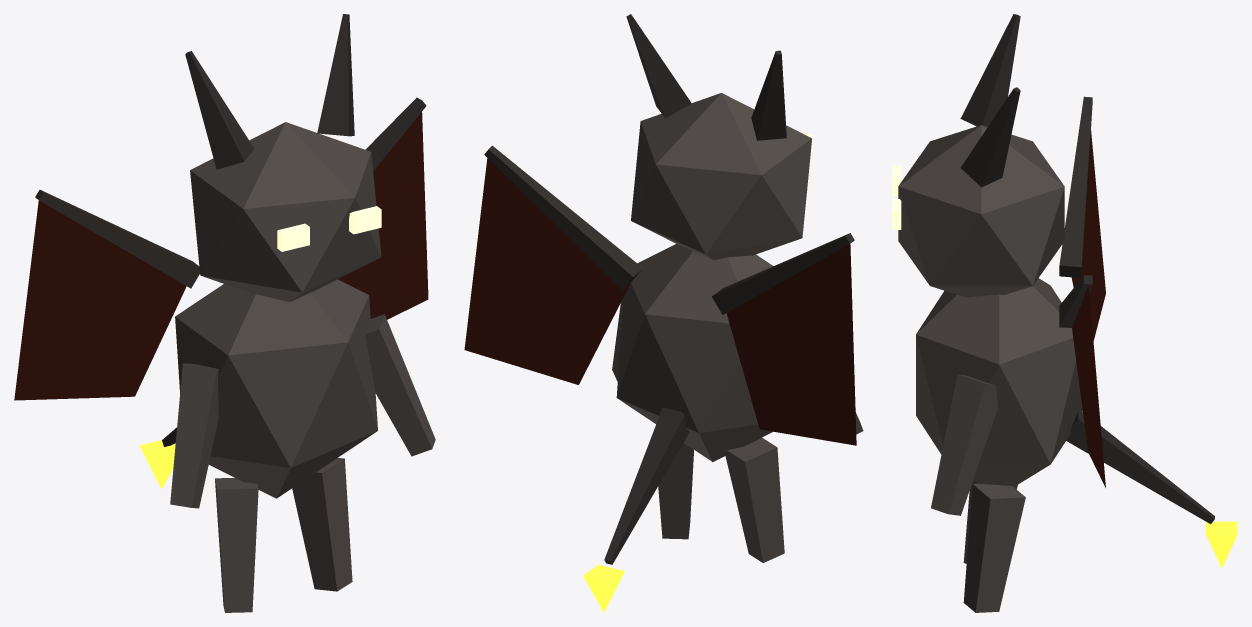
The model's file is Mascote_DiabreteCinza.fbx.
3 renders of one model, left to right at view 1: azimuth 30°, elevation 25°; view 2: azimuth 150°, elevation 25°; view 3: azimuth 270°, elevation 25°, orthographic. The views are drawn at different scales.
Parts seen in each view (by area): view 1: Body, WingR, WingL; view 2: Body, WingL, WingR; view 3: Body, WingR, WingL.
Boxes of the visible parts, x1,y1,x2,y2 form: Body: (139,14,435,612); WingR: (14,190,199,400); WingL: (338,97,428,319); Body: (583,14,863,612); WingL: (464,145,642,384); WingR: (712,233,856,445); Body: (892,14,1237,612); WingR: (1059,96,1105,340); WingL: (1059,275,1105,487).
Size of the model in its own units: 0.52 by 0.6636 by 0.3877.
